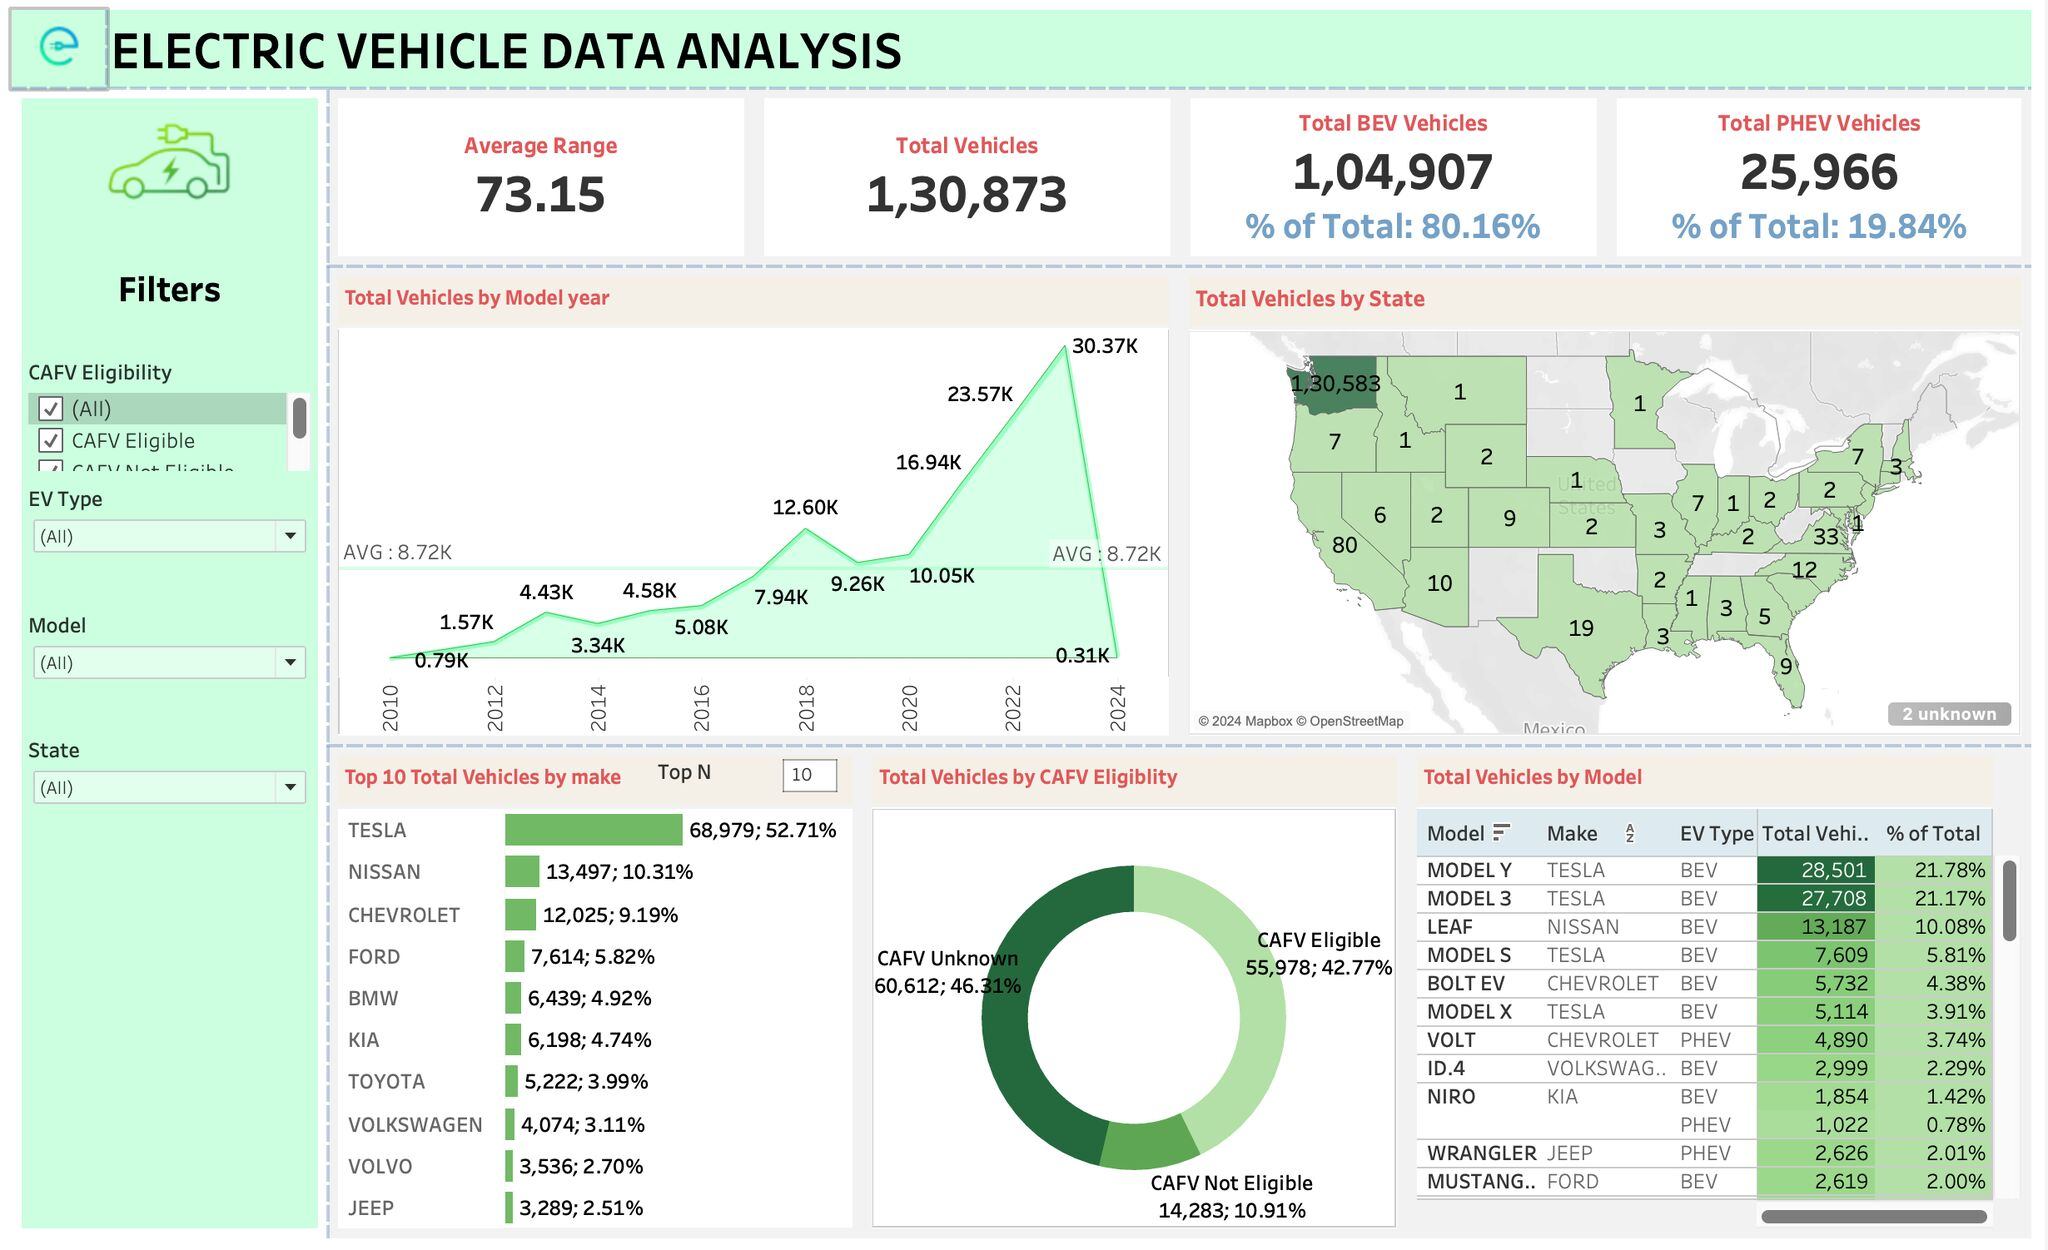

What the dashboard file says about the page in this screenshot:
{"tool":"tableau","page":{"name":"ELECTRIC VEHICLE DATA ANALYSIS","canvas":[1000,1000],"units":"permille","ordinal":0},"visuals":[{"type":"image","param":"/Users/krishnapandey/Downloads/images-removebg-preview.png","box":[6.5,10.6,46.4,62.3]},{"type":"text","box":[52.9,10.6,940.6,62.3]},{"type":"worksheet","title":"Avg Range","mark":"Automatic","box":[161.1,72.9,208.3,141.9]},{"type":"worksheet","title":"Total Vehicles","mark":"Automatic","box":[369.4,72.9,208.3,141.9]},{"type":"worksheet","title":"Total BEV Vehicles","mark":"Automatic","box":[577.7,72.9,208.3,141.9]},{"type":"worksheet","title":"Total PHEV Vehicles","mark":"Automatic","box":[786,72.9,207.5,141.9]},{"type":"image","param":"/Users/krishnapandey/Downloads/download-removebg-preview.png","box":[11.4,80.9,144.8,100.8]},{"type":"text","box":[11.4,181.7,144.8,100.8]},{"type":"worksheet","title":"Total Vehicles by Model year","mark":"Area","rows":["Calculation_259871806029811712","Calculation_259871806029811712"],"cols":["Model Year"],"box":[161,214.8,416.2,382]},{"type":"worksheet","title":"Total Vehicles by State","mark":"Automatic","box":[577.2,214.8,416.3,382]},{"type":"filter","title":"Total Vehicles by Model year","param":"[federated.0ntk66601kjs7b1bwip651mz1iga].[none:Clean Alternative Fuel Vehicle (C","box":[11.4,282.5,144.8,100.8]},{"type":"filter","title":"Total Vehicles by Model year","param":"[federated.0ntk66601kjs7b1bwip651mz1iga].[none:Electric Vehicle Type:nk]","box":[11.4,383.3,144.8,100.8]},{"type":"filter","title":"Total Vehicles by Model year","param":"[federated.0ntk66601kjs7b1bwip651mz1iga].[none:Model:nk]","box":[11.4,484.1,144.8,99.5]},{"type":"filter","title":"Total Vehicles by Model year","param":"[federated.0ntk66601kjs7b1bwip651mz1iga].[none:State:nk]","box":[11.4,583.6,144.8,99.5]},{"type":"worksheet","title":"Top 10 Total Vehicles by make","mark":"Automatic","rows":["Make"],"cols":["Calculation_259871806029811712"],"box":[161,596.8,261.2,392.6]},{"type":"worksheet","title":"Total Vehicles by CAFV Eligiblity","mark":"Pie","rows":["Calculation_538883878813851649","Calculation_538883878813851649"],"box":[422.2,596.8,266.2,392.6]},{"type":"worksheet","title":"Total Vehicles by Model","mark":"Square","rows":["Model","Make","Electric Vehicle Type"],"box":[688.4,596.8,305.1,392.6]},{"type":"parameter","param":"[Parameters].[Parameter 1]","box":[322.2,603.5,90.3,37.1]},{"type":"blank","box":[11.4,683,144.8,99.5]},{"type":"blank","box":[11.4,782.5,144.8,99.5]},{"type":"blank","box":[11.4,882,144.8,99.5]}]}

Visuals, with their boxes on the dashboard's canvas, which has no fixed pixel size, in thousandths of its width and height (x1, y1, x2, y2). These are canvas units, not pixel positions in the 2048x1250 screenshot, which may show the page scaled, cropped or inside an application window:
image: region(6, 11, 53, 73)
text: region(53, 11, 994, 73)
"Avg Range" worksheet: region(161, 73, 369, 215)
"Total Vehicles" worksheet: region(369, 73, 578, 215)
"Total BEV Vehicles" worksheet: region(578, 73, 786, 215)
"Total PHEV Vehicles" worksheet: region(786, 73, 994, 215)
image: region(11, 81, 156, 182)
text: region(11, 182, 156, 282)
"Total Vehicles by Model year" worksheet (Area marks): region(161, 215, 577, 597)
"Total Vehicles by State" worksheet: region(577, 215, 994, 597)
"Total Vehicles by Model year" filter: region(11, 282, 156, 383)
"Total Vehicles by Model year" filter: region(11, 383, 156, 484)
"Total Vehicles by Model year" filter: region(11, 484, 156, 584)
"Total Vehicles by Model year" filter: region(11, 584, 156, 683)
"Top 10 Total Vehicles by make" worksheet: region(161, 597, 422, 989)
"Total Vehicles by CAFV Eligiblity" worksheet (Pie marks): region(422, 597, 688, 989)
"Total Vehicles by Model" worksheet (Square marks): region(688, 597, 994, 989)
parameter: region(322, 604, 412, 641)
blank: region(11, 683, 156, 782)
blank: region(11, 782, 156, 882)
blank: region(11, 882, 156, 982)
